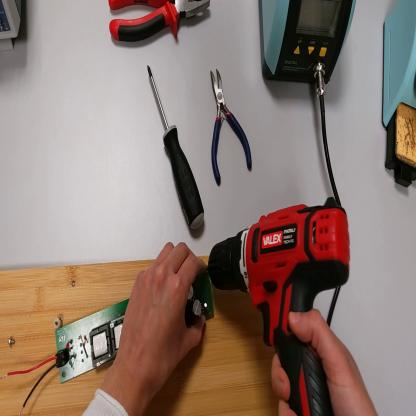electric screwdriver: (208, 198, 353, 416)
hand: (121, 241, 208, 396), (272, 307, 376, 415)
high voltage board: (3, 267, 214, 408)
oscilloscope: (1, 1, 24, 57)
pliers: (109, 3, 212, 52), (209, 69, 252, 185)
screwdriver-: (147, 68, 205, 235)
welder base: (381, 3, 416, 189)
welder station: (260, 1, 357, 86)
working area: (2, 259, 281, 413)
